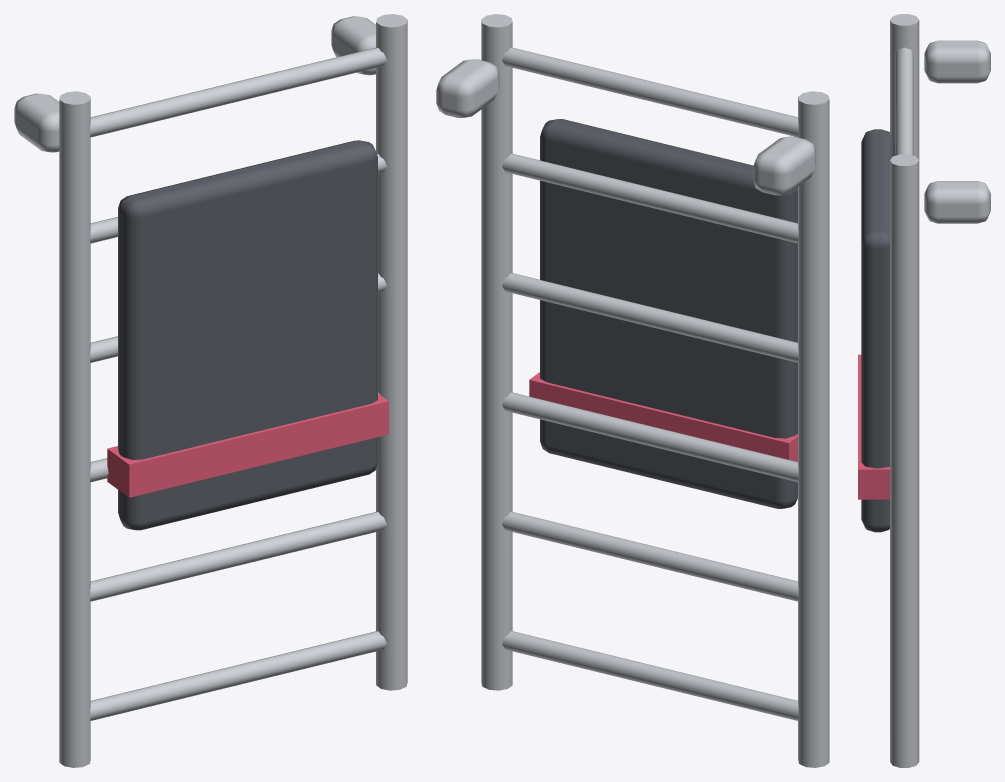
The model's file is towel-heated.glb.
3 renders of one model, left to right at view 1: azimuth 30°, elevation 25°; view 2: azimuth 150°, elevation 25°; view 3: azimuth 270°, elevation 25°, orthographic. The views are drawn at different scales.
Bounding box in the file's own units: 0.56 × 1 × 0.2.
